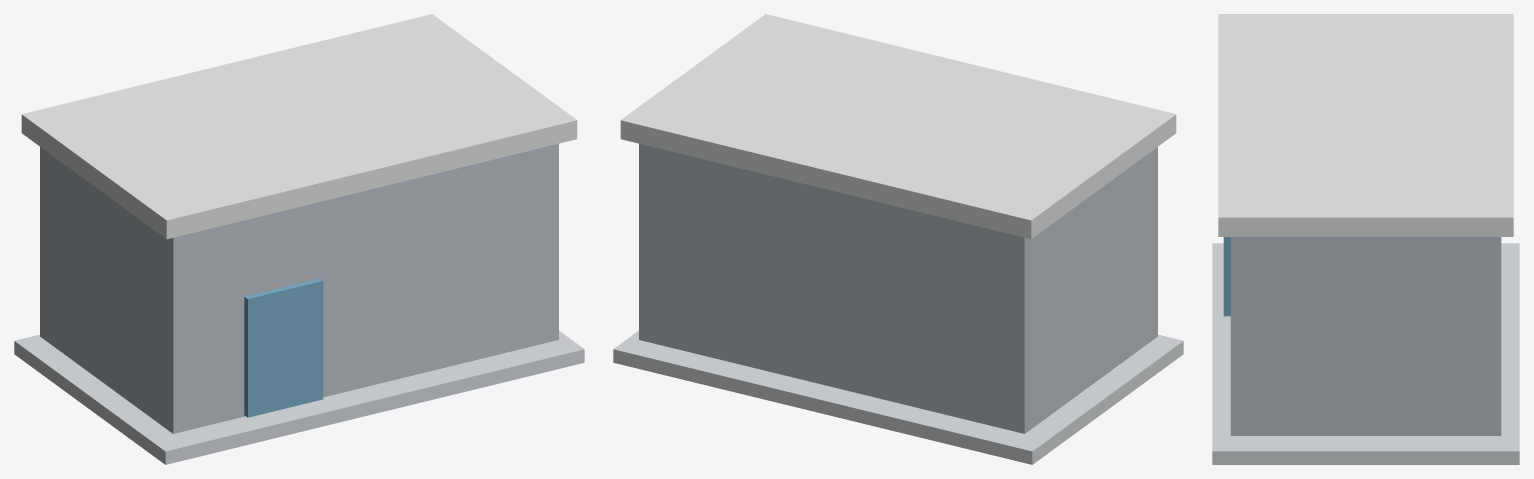
Rendered from control.glb.
3 renders of one model, left to right at view 1: azimuth 30°, elevation 25°; view 2: azimuth 150°, elevation 25°; view 3: azimuth 270°, elevation 25°, orthographic.
Parts seen in each view (by area): view 1: control; view 2: control; view 3: control.
Part boxes in pixels (x1,y1,x2,y2): control: [14, 14, 584, 464]; control: [613, 14, 1183, 464]; control: [1212, 14, 1519, 464].
Bounding box in the file's own units: 8 × 4.4 × 5.
